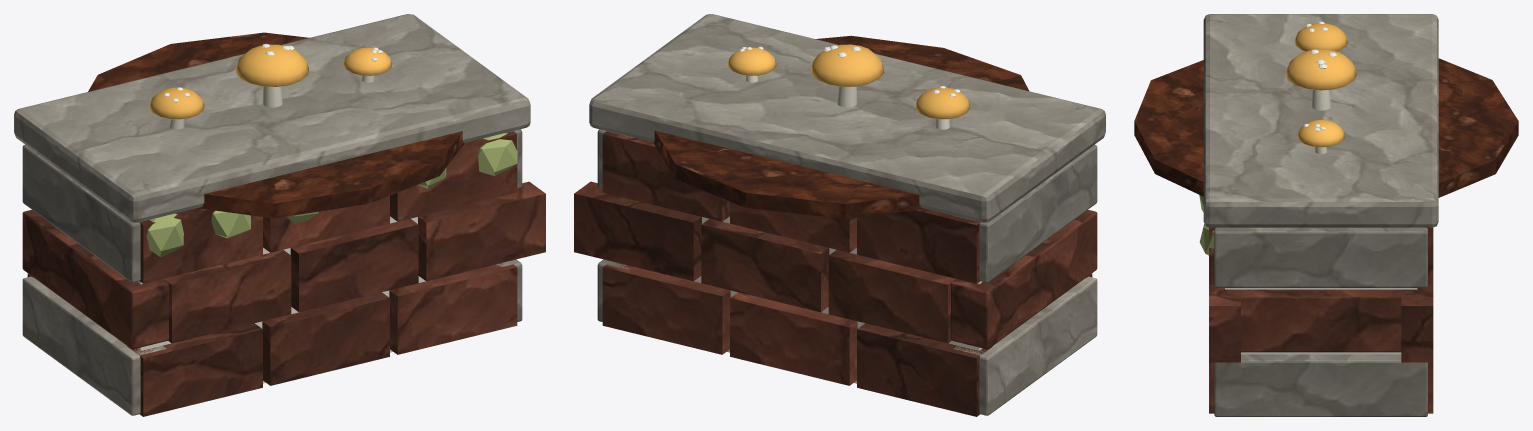
File: hearth_planter.glb
3 views of the same model, side by side, from view 1: azimuth 30°, elevation 25°; view 2: azimuth 150°, elevation 25°; view 3: azimuth 270°, elevation 25° (orthographic). The views are drawn at different scales.
Parts seen in each view (by area): view 1: model; view 2: model; view 3: model.
Part boxes in pixels (left/top/right/bottom): model: left=14, top=14, right=545, bottom=416; model: left=574, top=14, right=1105, bottom=416; model: left=1134, top=14, right=1518, bottom=416.
Bounding box in the file's own units: 0.872 × 0.5705 × 0.7189.
Materials: 16 (6 with a texture image).
